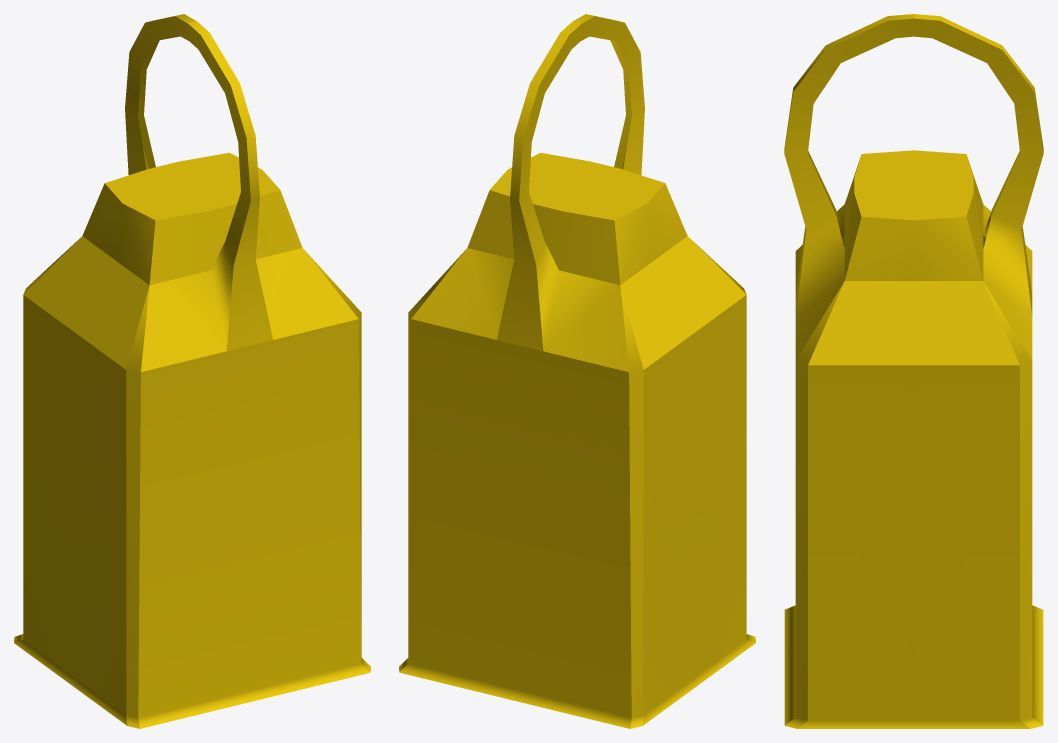
File: tableLantern.fbx
The picture shows the model from 3 angles, left to right: view 1: azimuth 30°, elevation 25°; view 2: azimuth 150°, elevation 25°; view 3: azimuth 270°, elevation 25°; orthographic projection. The views are drawn at different scales.
Visible parts, largest first — view 1: TableLantern; view 2: TableLantern; view 3: TableLantern.
Boxes of the visible parts, x1,y1,x2,y2 form: TableLantern: [14, 14, 370, 728]; TableLantern: [399, 14, 755, 728]; TableLantern: [784, 14, 1043, 728].
Size of the model in its own units: 207 by 513 by 185.
